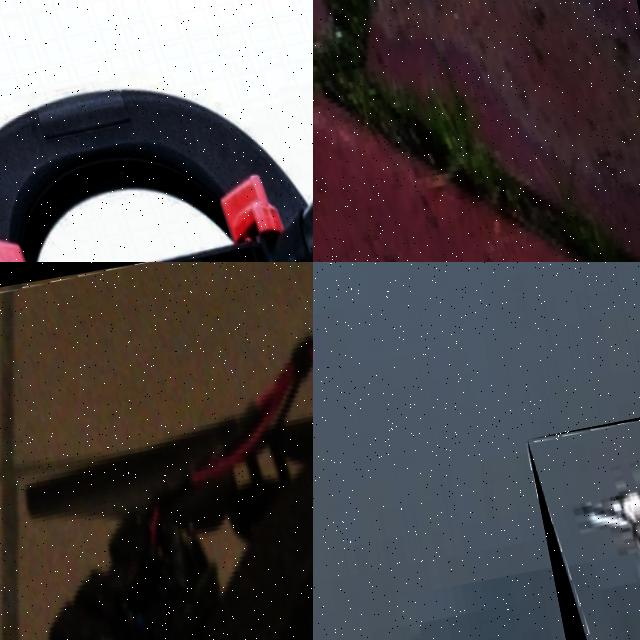drone: (0, 262, 313, 640), (313, 0, 640, 262), (0, 0, 313, 262), (527, 409, 640, 640)
